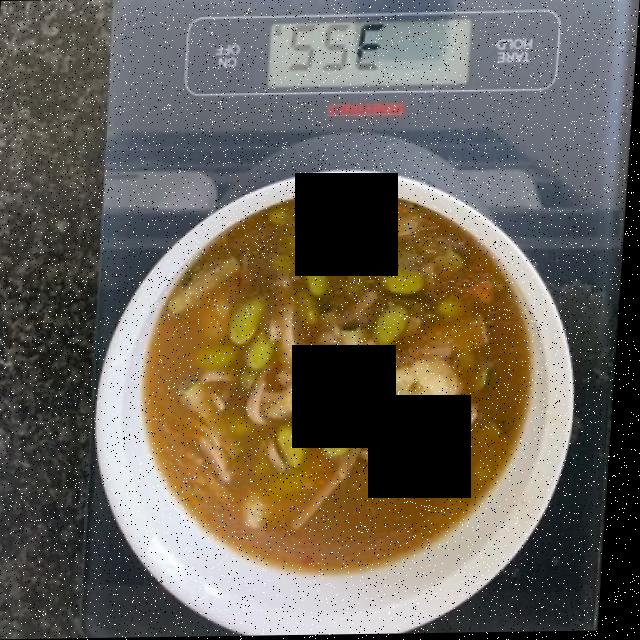mushrooms: (357, 433, 425, 475)
soup-miso: (154, 203, 528, 573)
vegetables: (355, 361, 457, 443)
